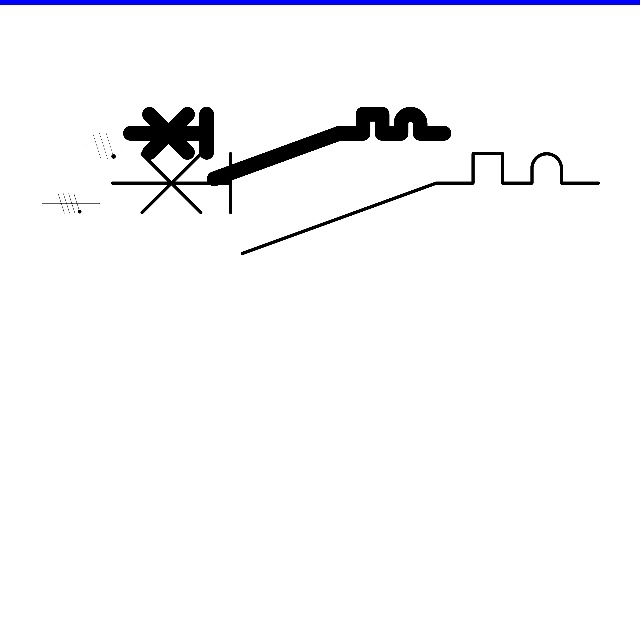interruptor_termomagnetico: (99, 141, 610, 266), (122, 106, 452, 187)
